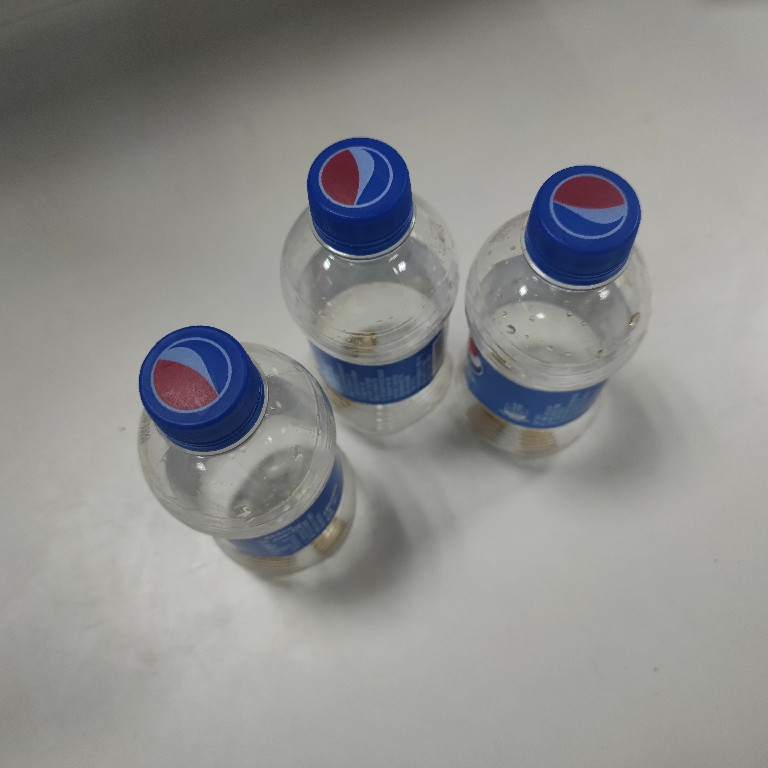bottle: (458, 161, 657, 471), (273, 134, 466, 444), (132, 322, 361, 582)
